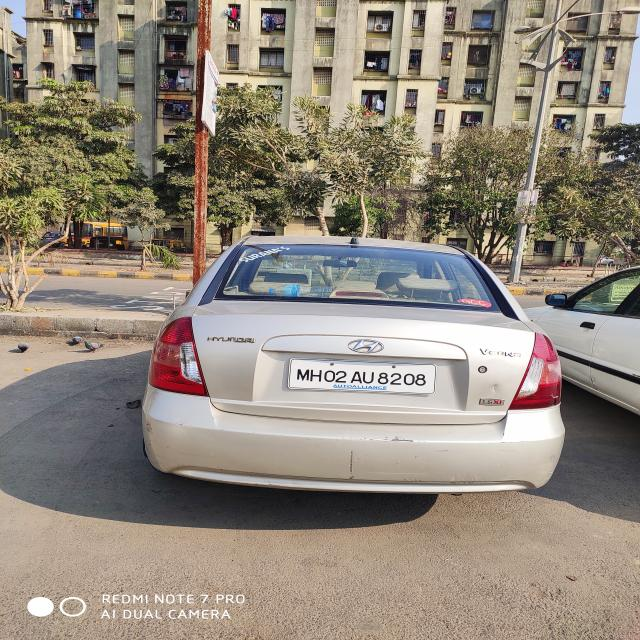Number-Plate: (287, 360, 437, 390)
